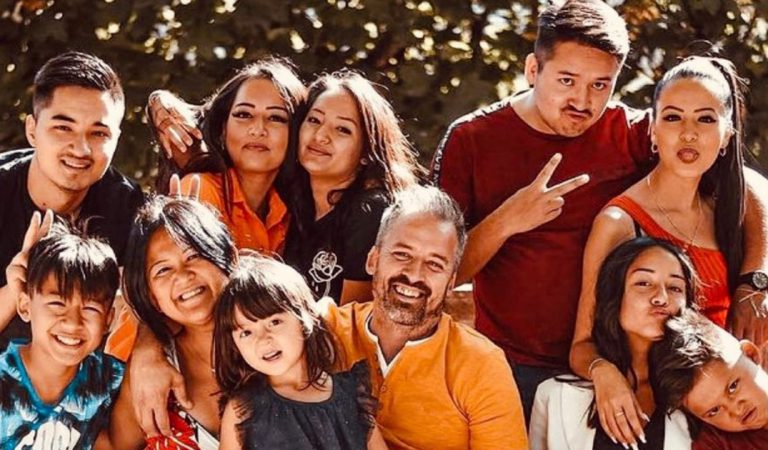without_mask: (35, 89, 110, 188), (538, 45, 618, 137), (382, 227, 449, 331), (27, 275, 108, 361), (143, 243, 230, 322), (686, 350, 764, 435), (298, 89, 365, 182), (649, 92, 723, 171), (621, 257, 688, 343), (230, 82, 291, 172), (225, 311, 309, 372)
